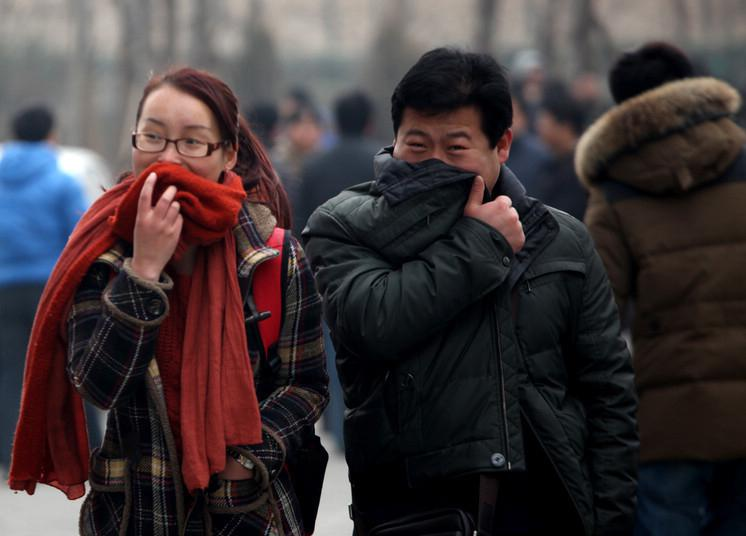NONE: (398, 119, 492, 211)
WRONG: (137, 115, 216, 194)
